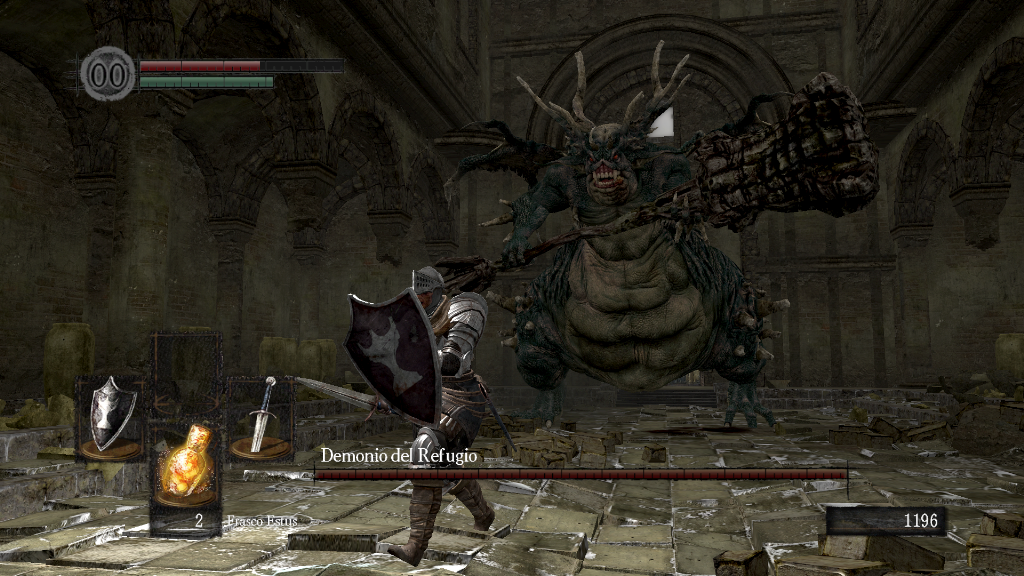asylumDemon: (430, 41, 881, 441)
bossHP: (314, 469, 847, 479)
health: (138, 58, 343, 71)
humanity: (80, 45, 136, 102)
player: (292, 266, 497, 566)
souls: (825, 506, 945, 536)
stamina: (138, 74, 274, 88)
